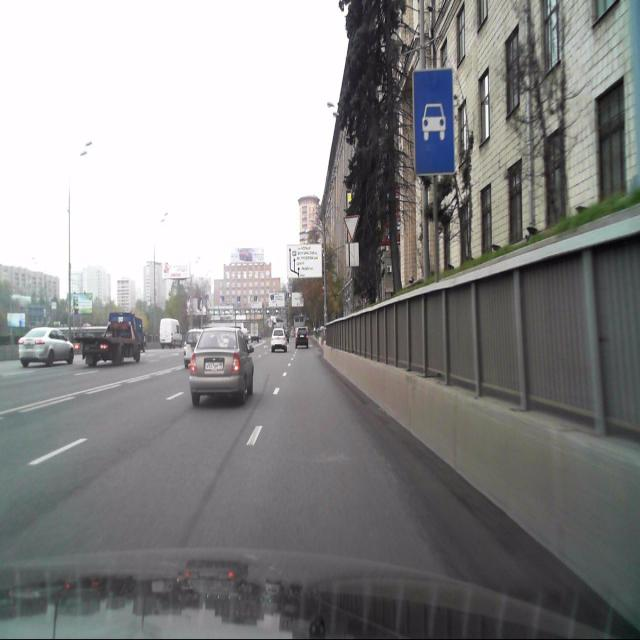road sign: (413, 69, 455, 172), (344, 214, 360, 241)
